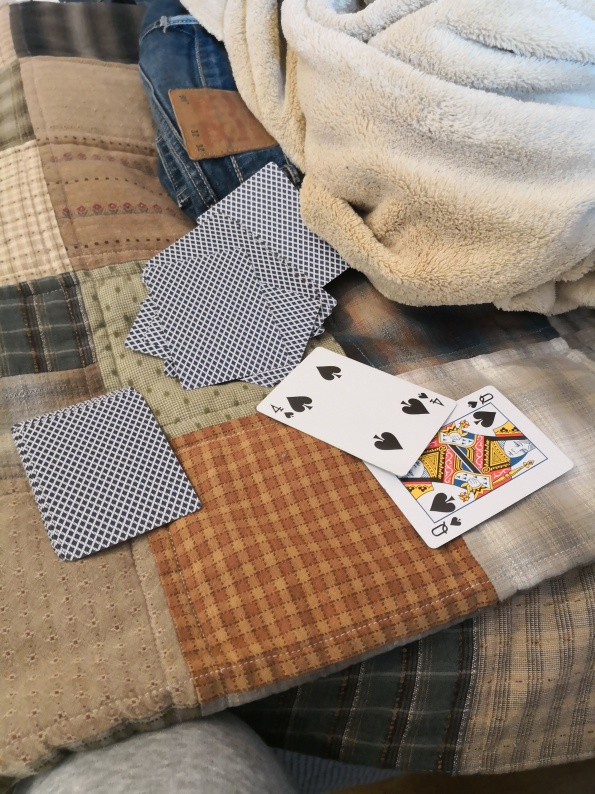4: (255, 345, 457, 481)
queen: (364, 383, 576, 550)
